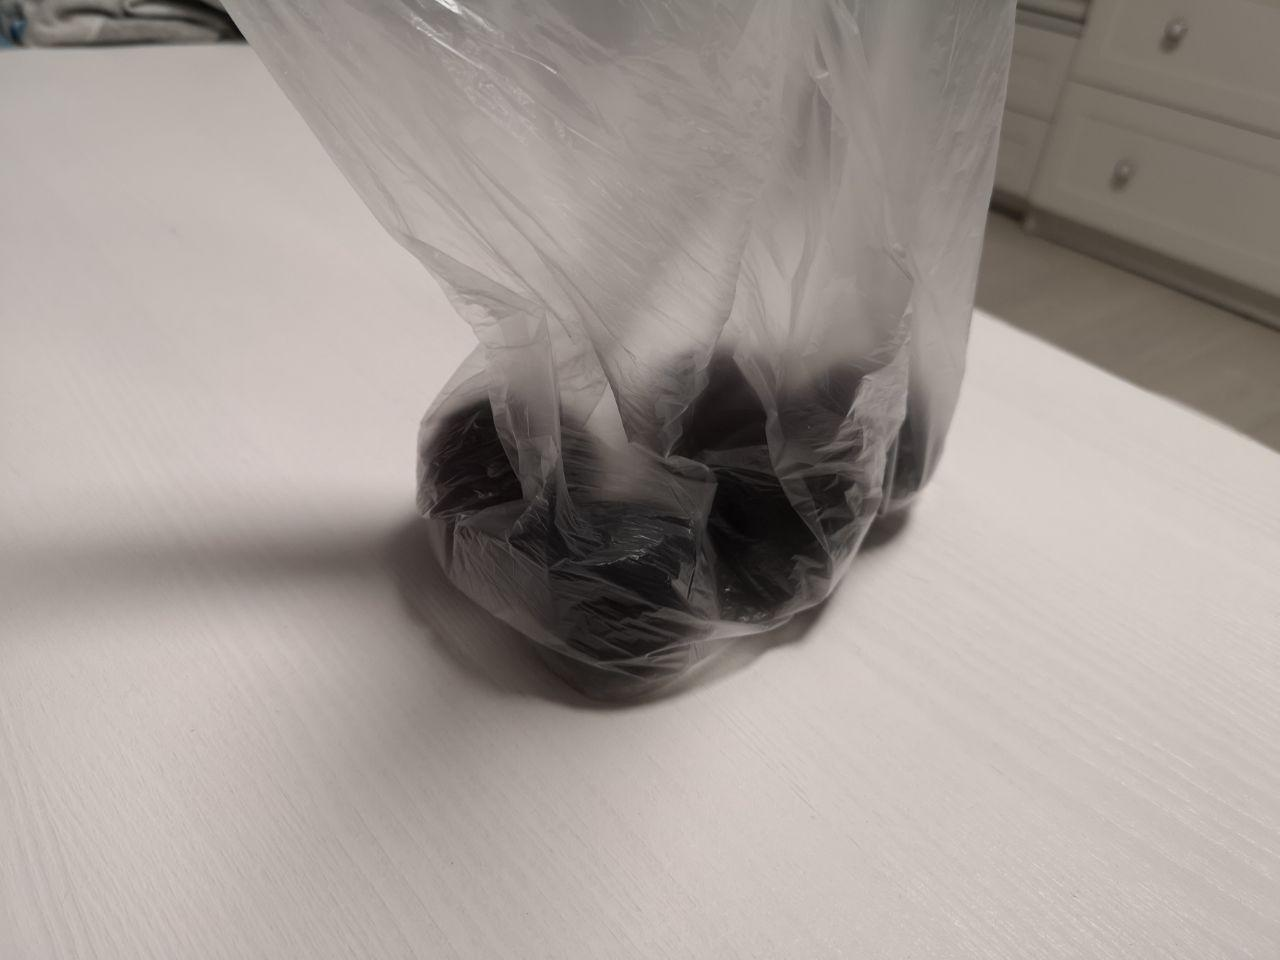plum: (340, 213, 992, 716)
